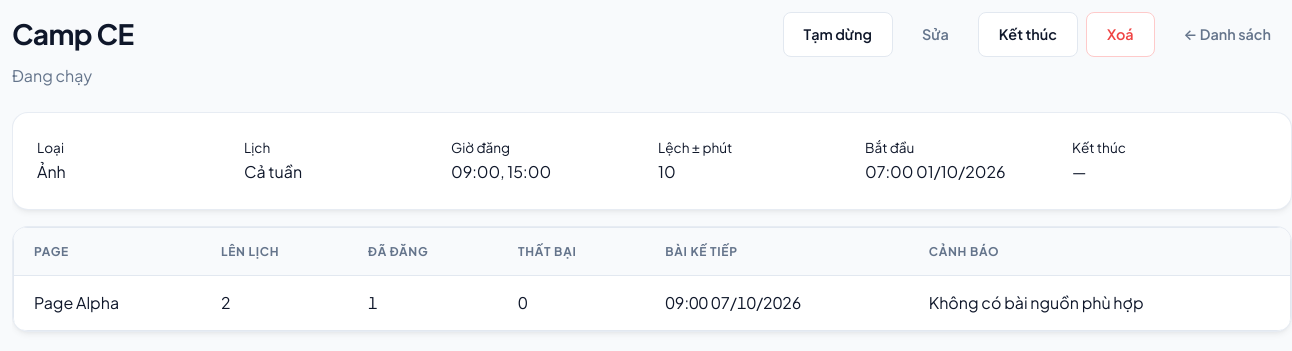
it: campaign-ui-test (c) chi tiết page → bài › chi tiết: table page đủ cột + cảnh báo; bấm page → table bài (giờ, trạng thái, nội dung, media, link)
Expected: the element with test id "campaign-info" is shown, [12,112,1291,210]
Click the link "Page Alpha".
click(76, 302)  # box [34,292,119,313]
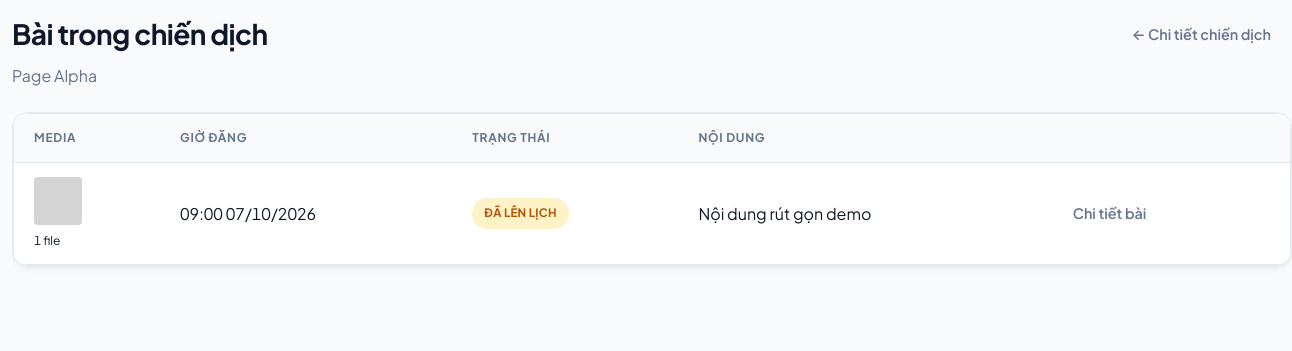
Result: the text "Nội dung rút gọn demo" is shown at [678,162,1032,264]
